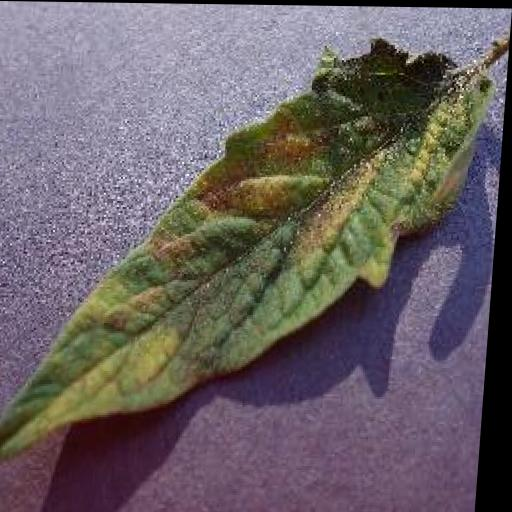Leaf Mold: (0, 30, 498, 481)
